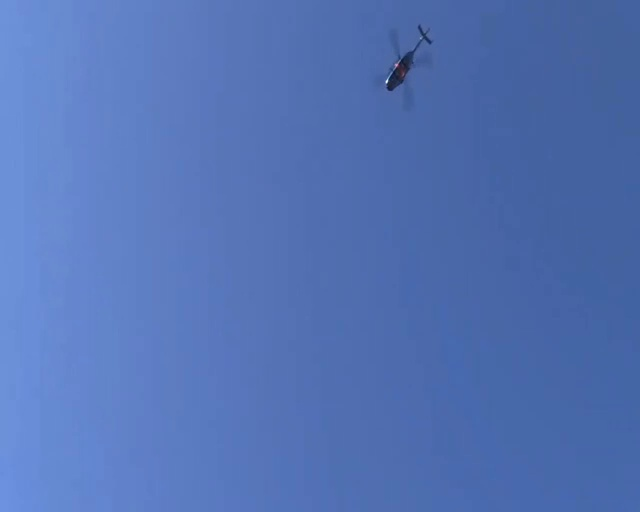HELICOPTER: (377, 23, 433, 91)
